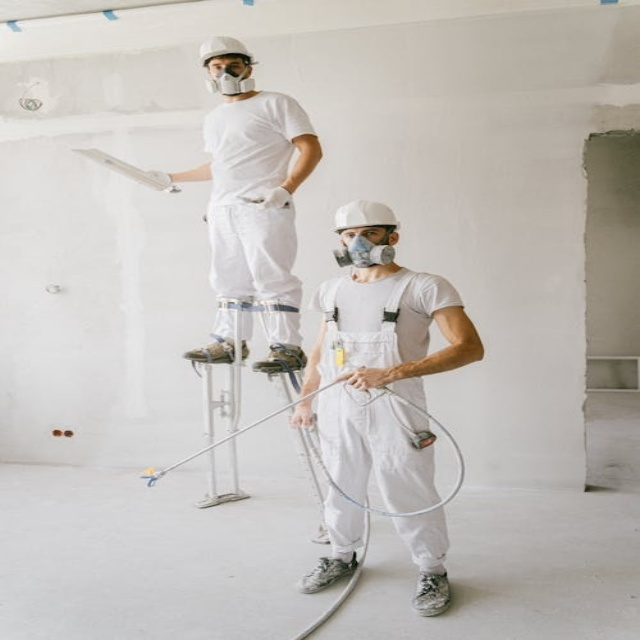Guantes: (258, 185, 292, 210), (142, 169, 173, 190)
Mascara: (335, 232, 395, 268), (205, 68, 254, 95)
Sin_gafas: (340, 228, 385, 239), (205, 60, 243, 72)
Sin_guantes: (342, 362, 397, 392), (288, 399, 317, 428)
